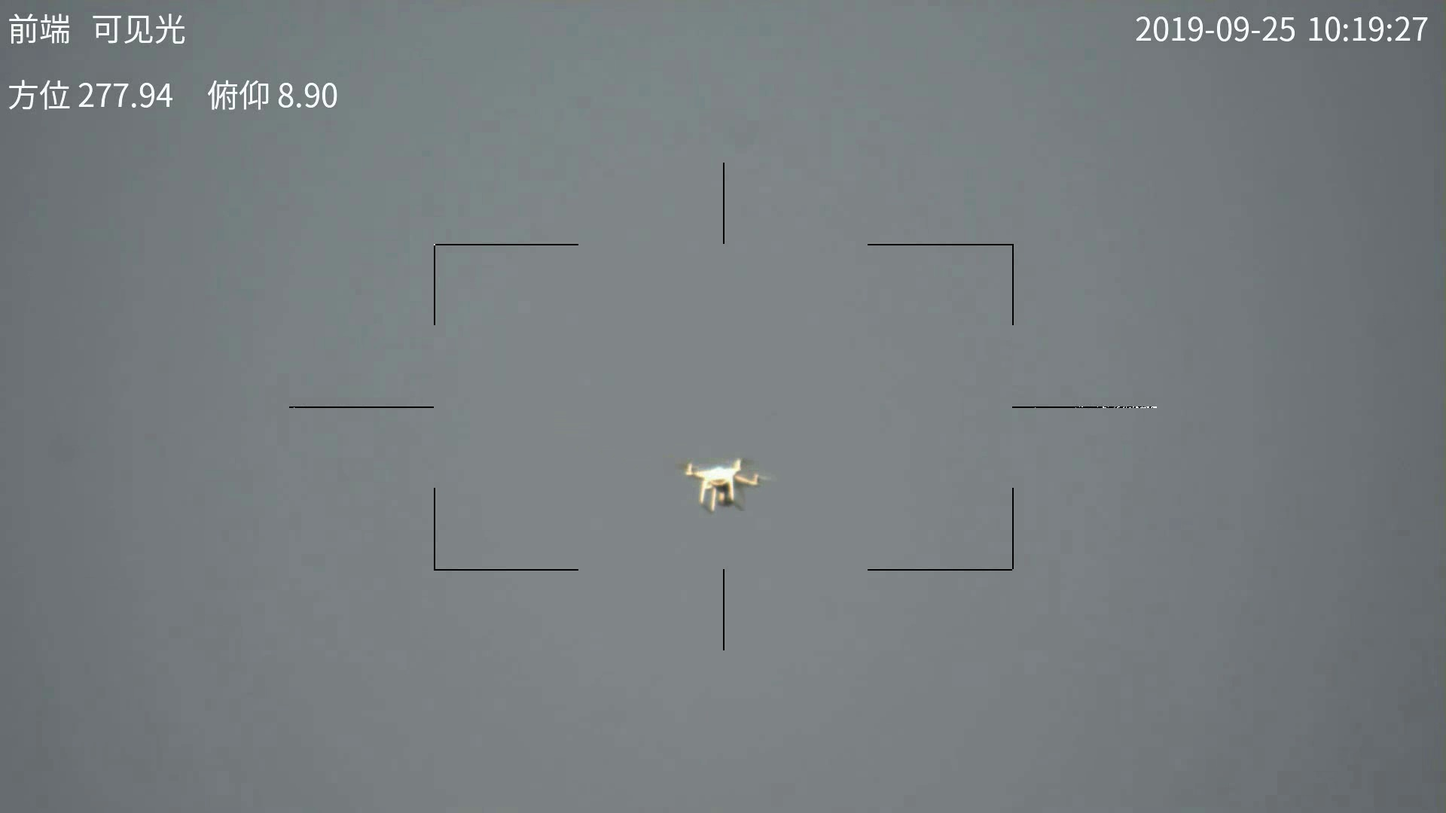drone_other: (670, 449, 764, 511)
